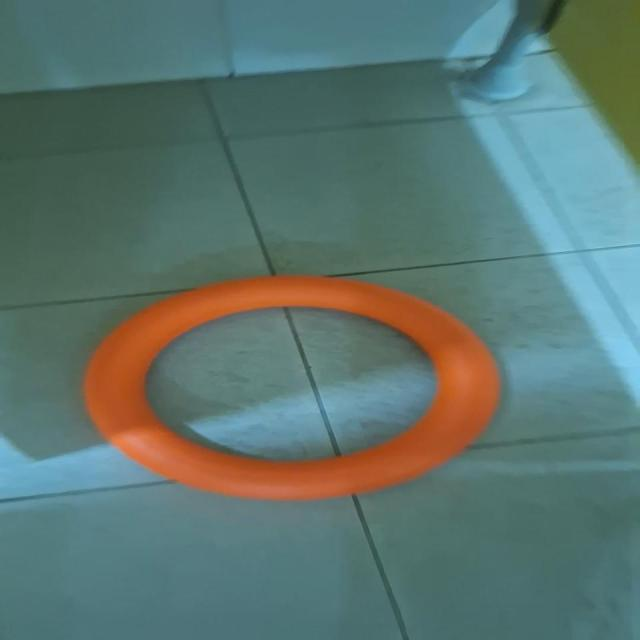note: (81, 273, 503, 502)
